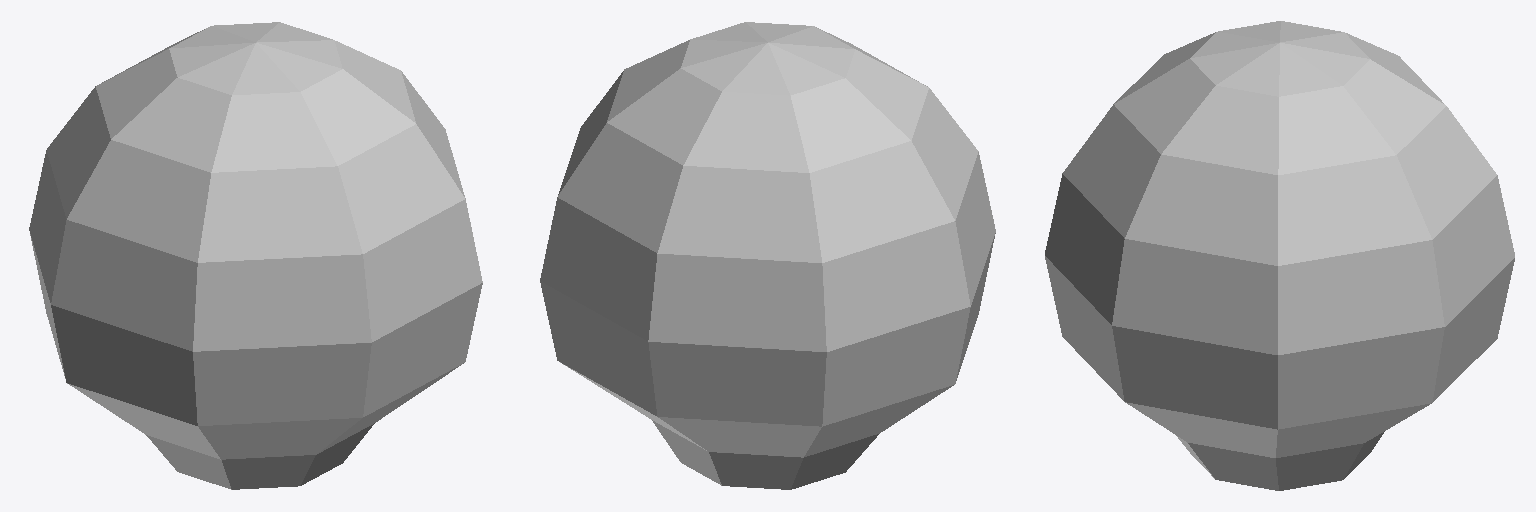
Rendered from berry_bush.obj.
3 views of the same model, side by side, from view 1: azimuth 30°, elevation 25°; view 2: azimuth 150°, elevation 25°; view 3: azimuth 270°, elevation 25° (orthographic).
Parts seen in each view (by area): view 1: Plane_Plane.003; view 2: Plane_Plane.003; view 3: Plane_Plane.003.
Part boxes in pixels (x1,y1,x2,y2): Plane_Plane.003: (29,22,482,489); Plane_Plane.003: (540,22,995,489); Plane_Plane.003: (1045,21,1514,490).
Size of the model in its own units: 2.2 by 2.2 by 2.2.